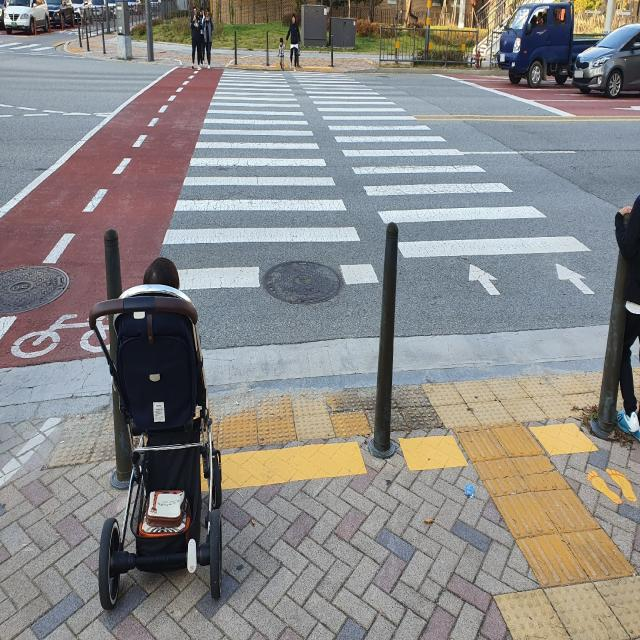횡단보도: (160, 64, 596, 301)
